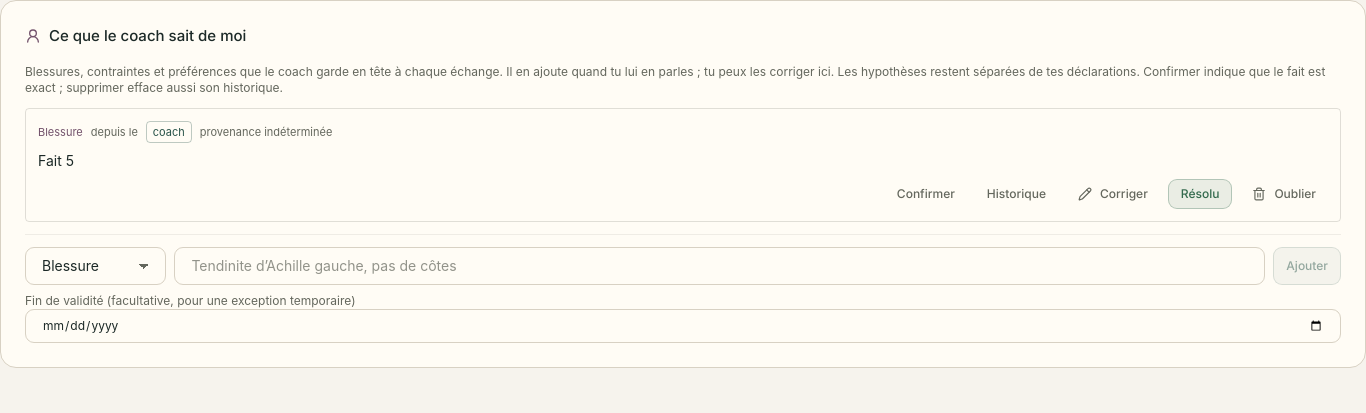
shows a conflict and refreshes instead of retrying a stale write
What coordinates should you click on to do the following:
click the button "Résolu"
I would click on:
 (1200, 194)
Its box is [1168,179,1232,209].
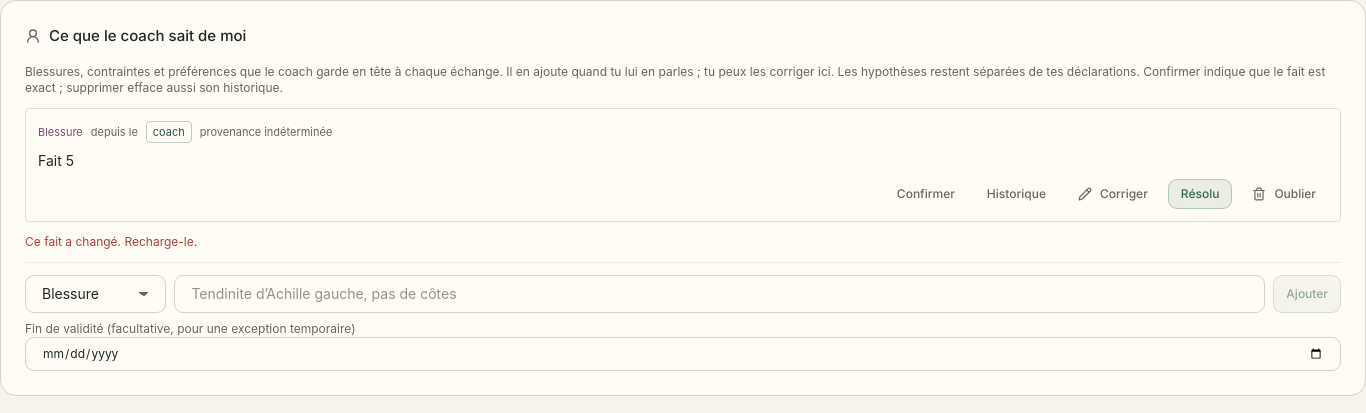
Expected: the text "Ce fait a changé. Recharge-le." is shown, [25,234,197,249]
